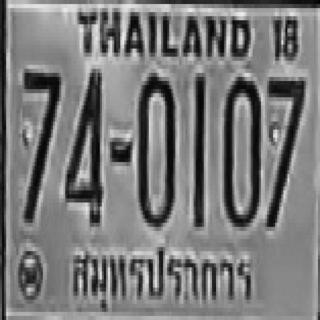N00: (222, 73, 259, 223), (137, 71, 173, 225)
N01: (192, 71, 204, 225)
N04: (63, 65, 102, 223)
N07: (265, 75, 304, 225), (22, 69, 59, 219)
P57: (69, 245, 262, 316)
